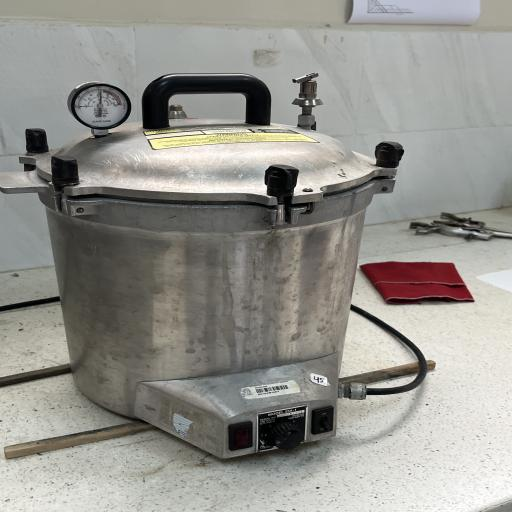Autoclave: (4, 61, 410, 469)
